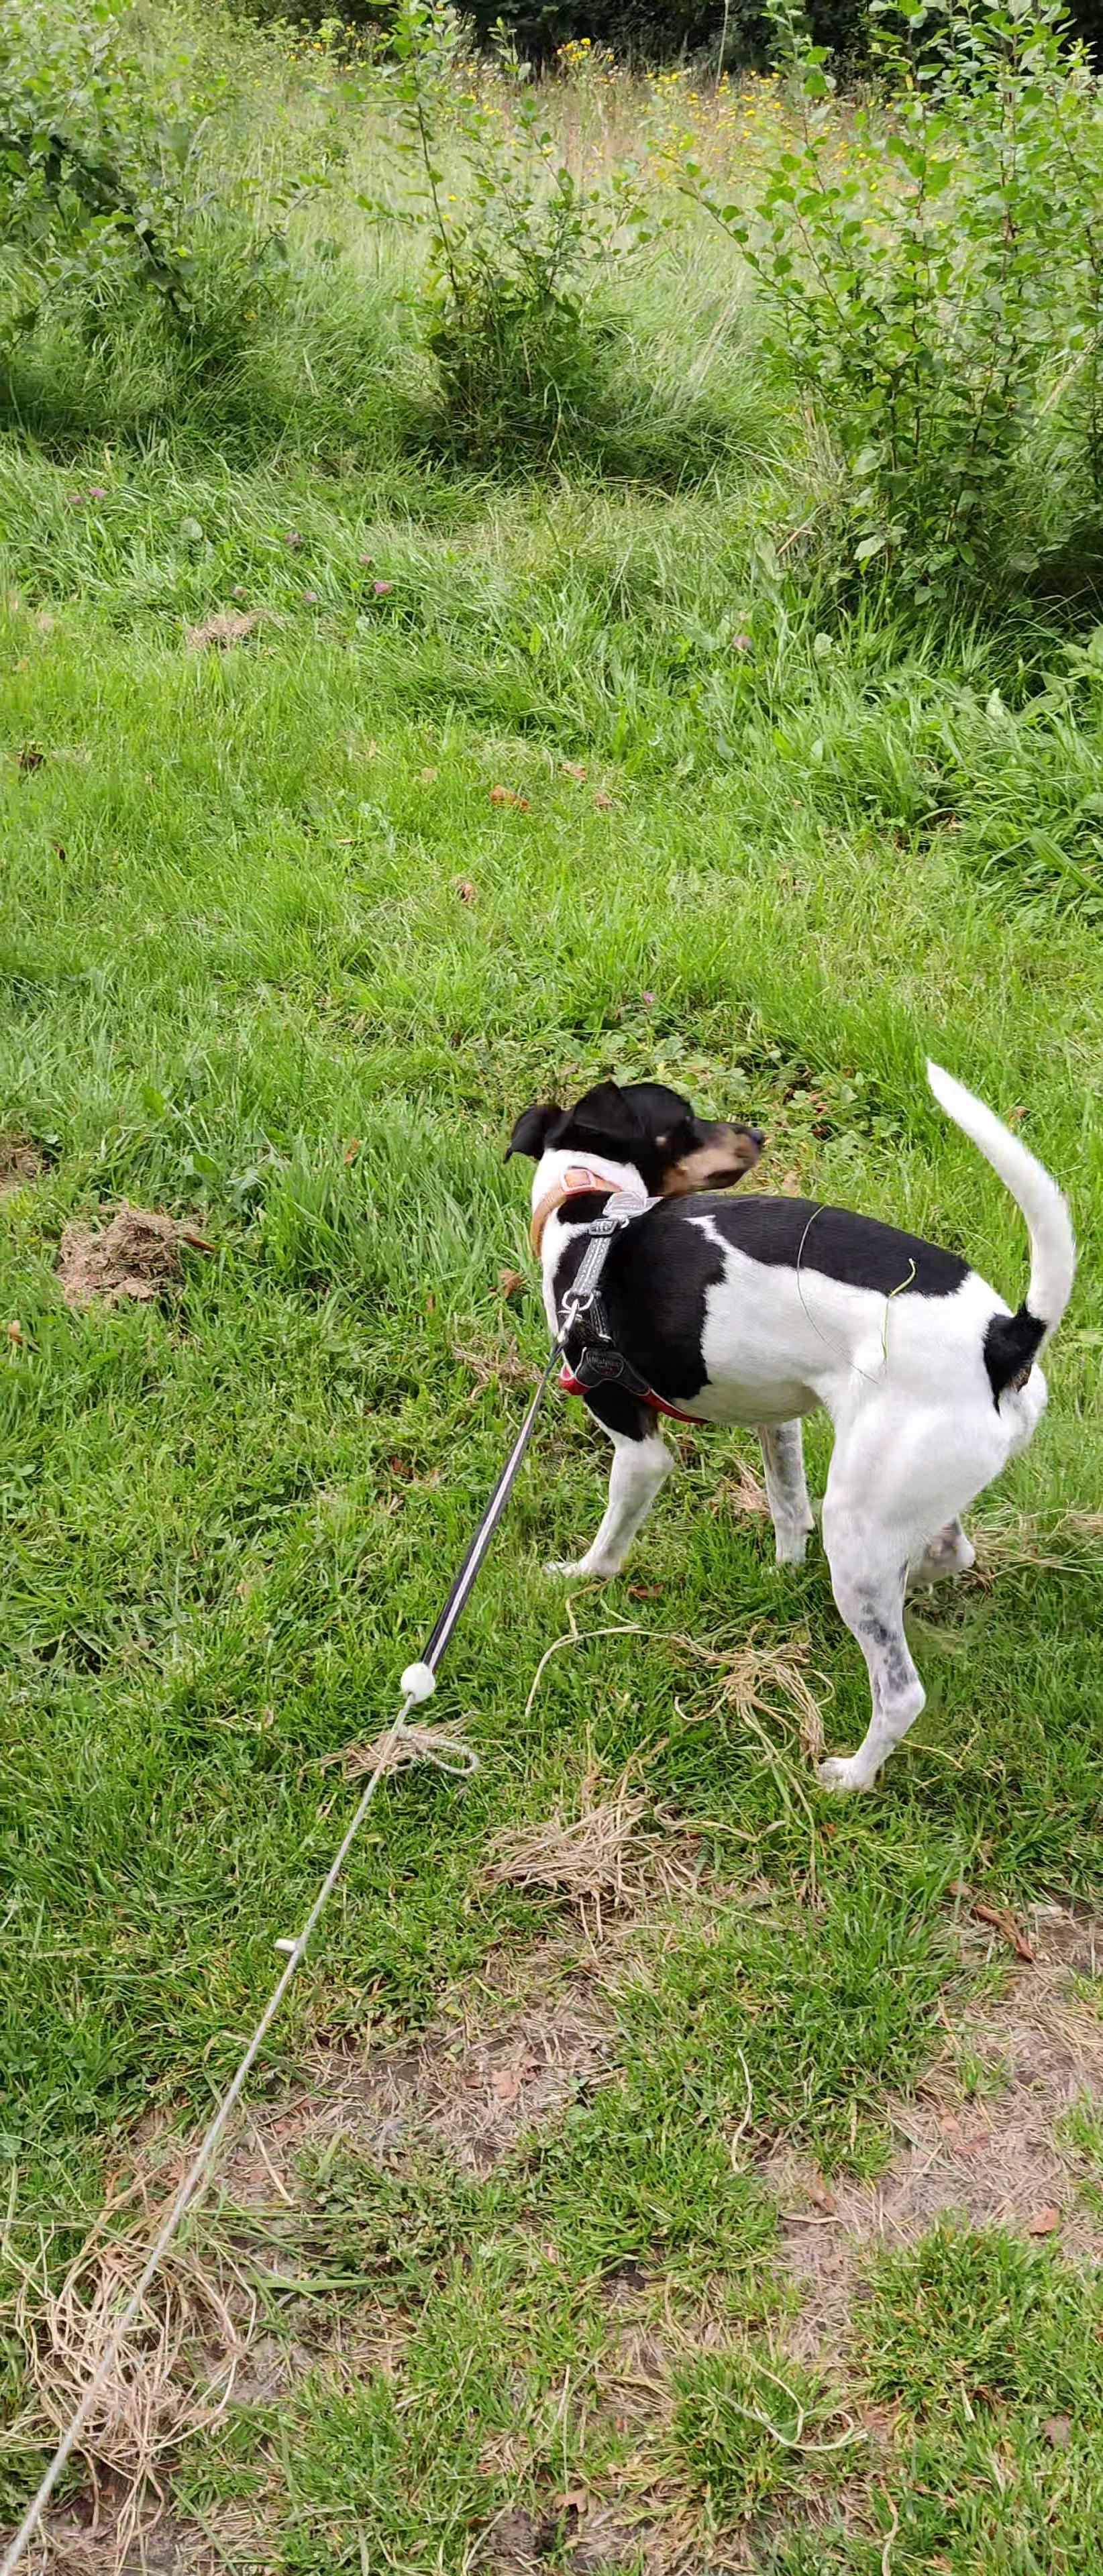Dog: (495, 1027, 1080, 1789)
